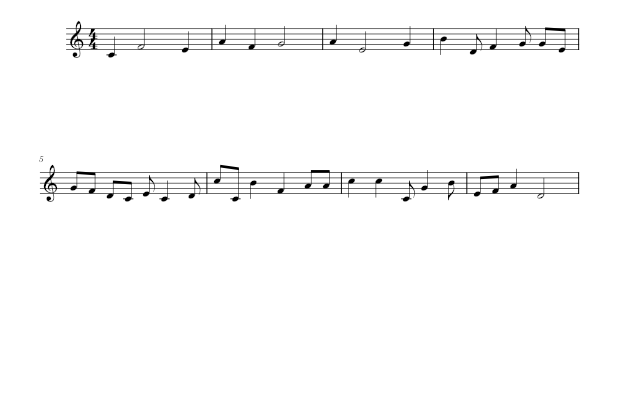Treble Clef: (66, 16, 87, 62), (40, 164, 60, 205)
